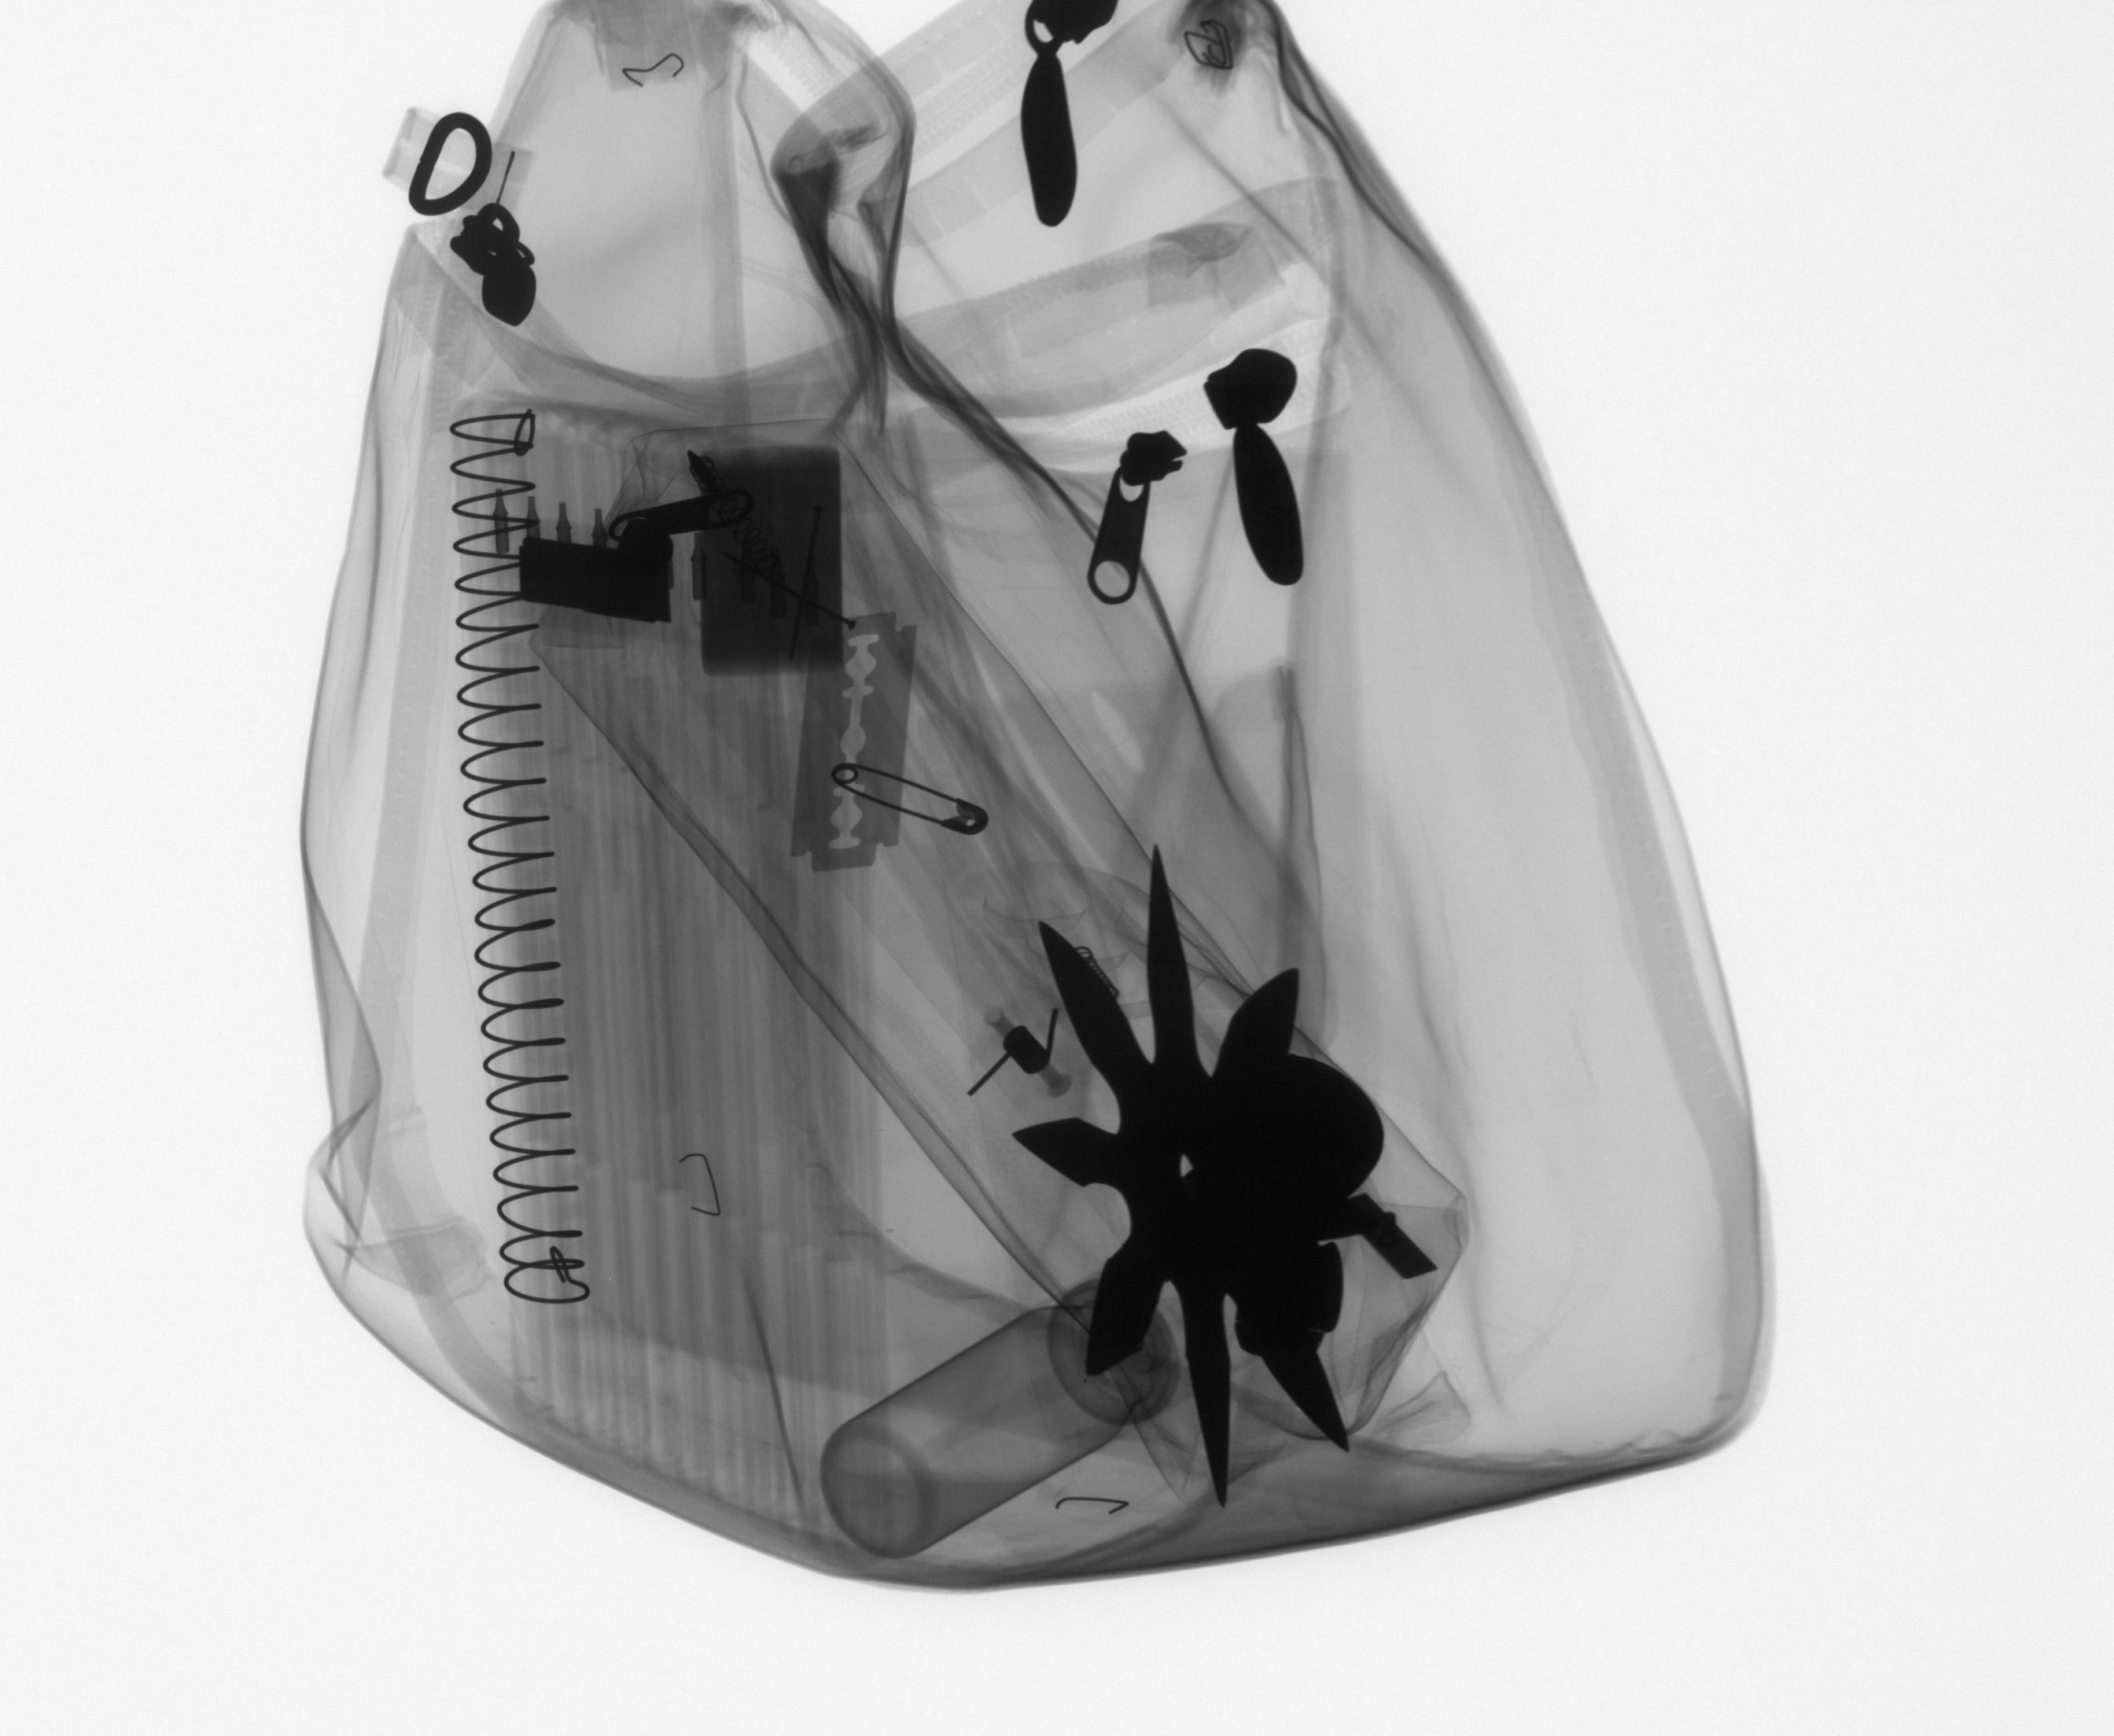RazorBlade: (783, 606, 924, 881)
Shuriken: (1004, 834, 1401, 1520)
